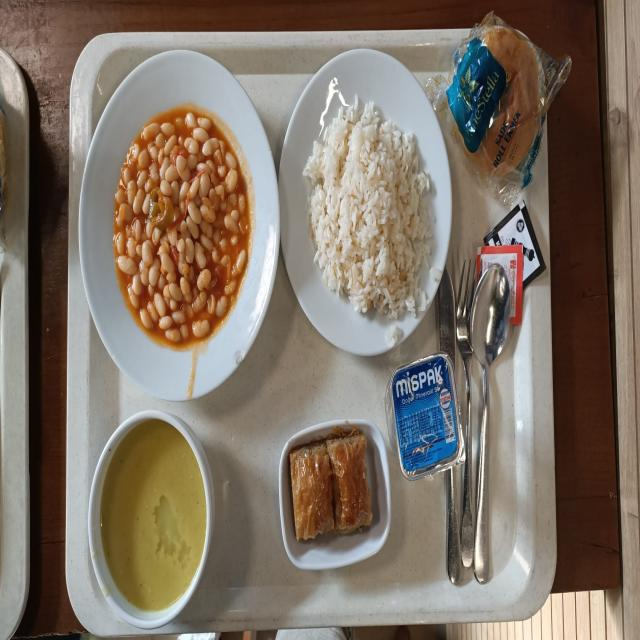ana_yemek: (77, 46, 284, 398), (285, 48, 425, 360)
corba: (86, 411, 214, 630)
yan_yemek: (279, 421, 382, 569)
